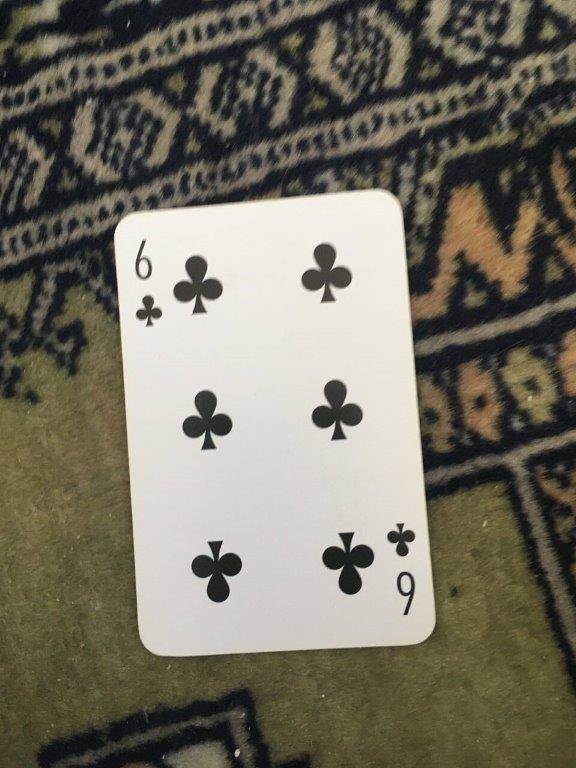6C: (109, 185, 439, 661)
